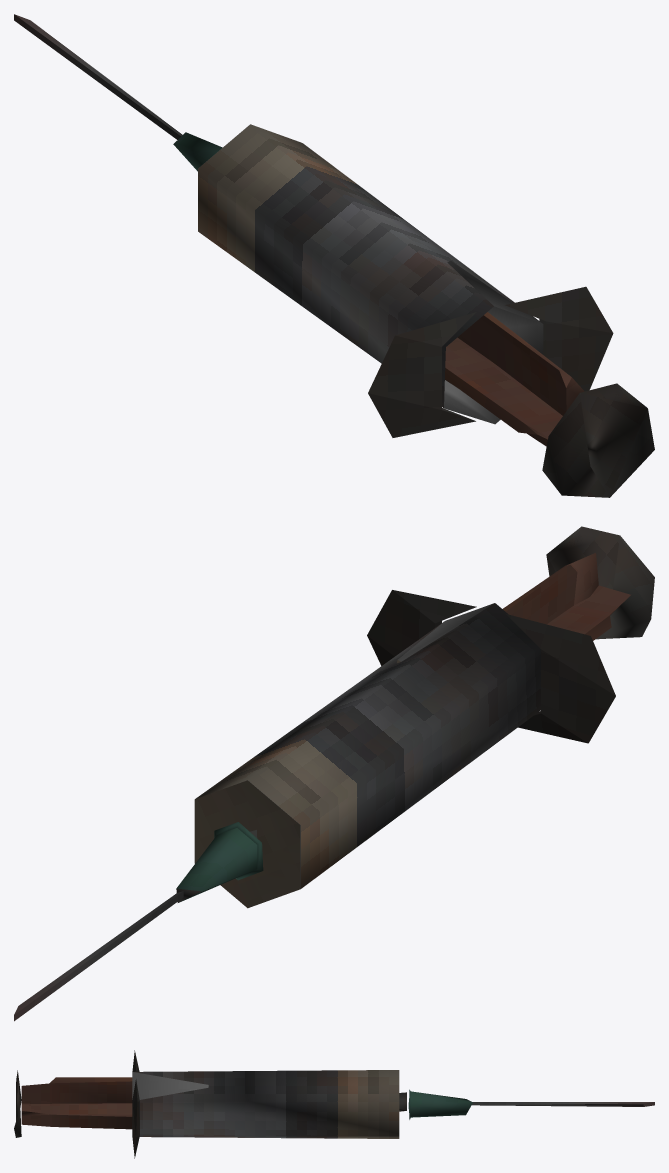
The model's file is syringe_mp_1.glb.
3 renders of one model, top to bottom at view 1: azimuth 30°, elevation 25°; view 2: azimuth 150°, elevation 25°; view 3: azimuth 270°, elevation 25°, orthographic. The views are drawn at different scales.
Visible parts, largest first — view 1: syringe_mp_1; view 2: syringe_mp_1; view 3: syringe_mp_1.
Part boxes in pixels (x1,y1,x2,y2): syringe_mp_1: (14, 14, 654, 497); syringe_mp_1: (14, 526, 654, 1021); syringe_mp_1: (14, 1050, 654, 1158).
Bounding box in the file's own units: 0.0407 × 0.02 × 0.168.
Materials: 1 (1 with a texture image).
